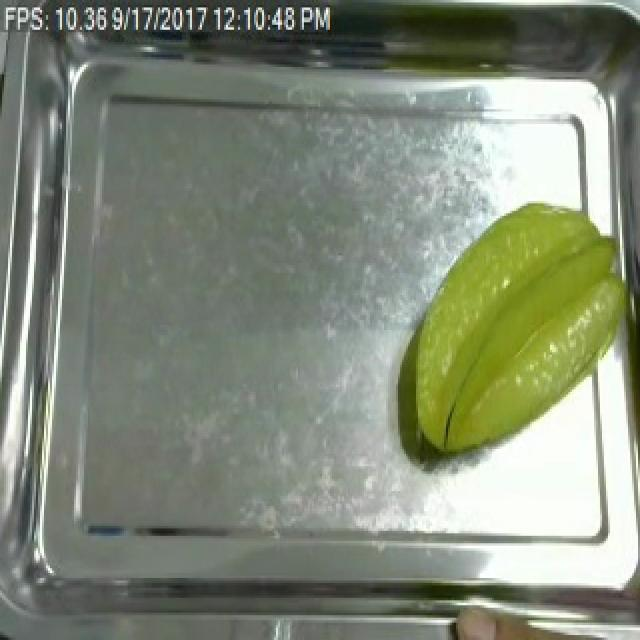fruit: (398, 193, 640, 469)
